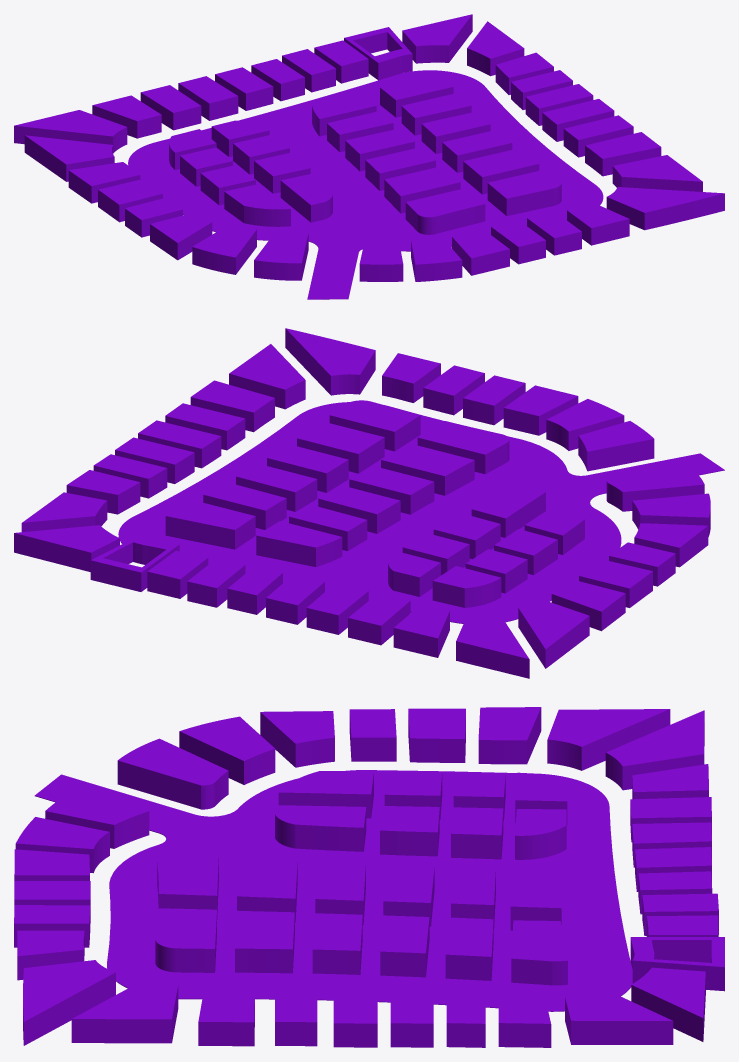
The picture shows the model from 3 angles, top to bottom: view 1: azimuth 30°, elevation 25°; view 2: azimuth 150°, elevation 25°; view 3: azimuth 270°, elevation 25°; orthographic projection. The views are drawn at different scales.
Parts seen in each view (by area): view 1: E-15; view 2: E-15; view 3: E-15.
Boxes of the visible parts, x1,y1,x2,y2 form: E-15: (14, 14, 724, 299); E-15: (14, 328, 724, 678); E-15: (14, 707, 724, 1047).
Size of the model in its own units: 227 by 8.2 by 215.
